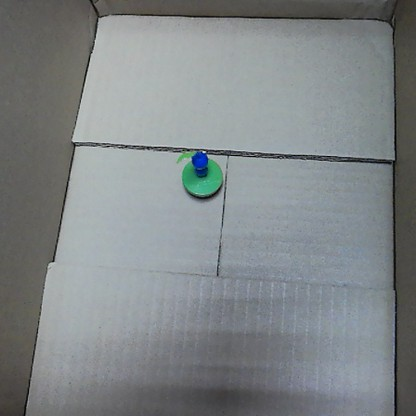leafairy: (170, 145, 224, 199)
